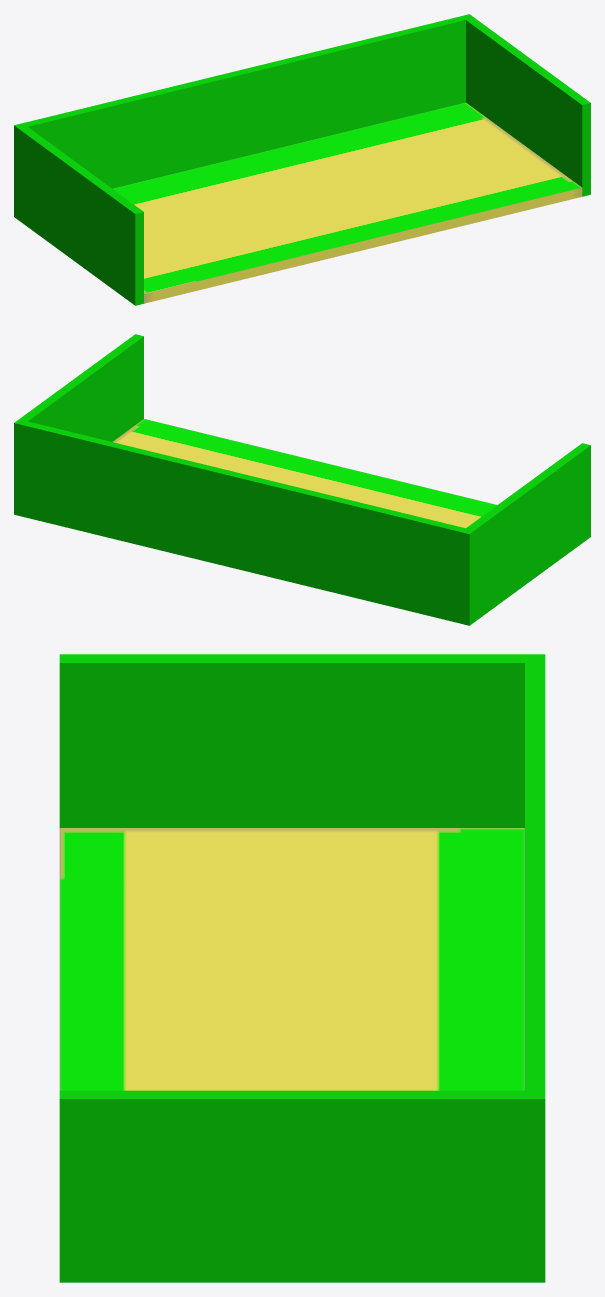
The model's file is TestStage.fbx.
3 renders of one model, top to bottom at view 1: azimuth 30°, elevation 25°; view 2: azimuth 150°, elevation 25°; view 3: azimuth 270°, elevation 25°, orthographic. The views are drawn at different scales.
Parts seen in each view (by area): view 1: pCube6; view 2: pCube6; view 3: pCube6.
Part boxes in pixels (<box>): pCube6: <box>14,14,590,305</box>; pCube6: <box>14,334,590,625</box>; pCube6: <box>59,654,545,1282</box>.
Size of the model in its own units: 52 by 10 by 24.
2 materials, 1 textured.
